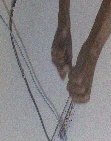hand: (65, 39, 99, 103), (49, 23, 73, 81)
